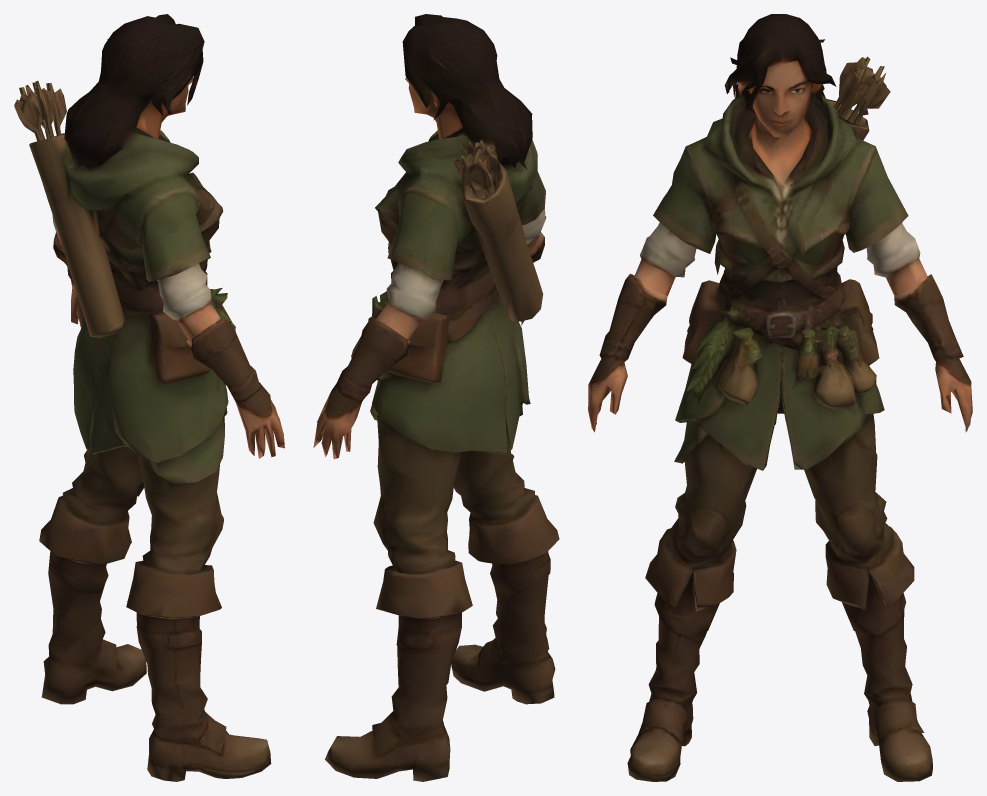
File: model-npc-juniper-01.glb
The picture shows the model from 3 angles, left to right: view 1: azimuth 30°, elevation 25°; view 2: azimuth 150°, elevation 25°; view 3: azimuth 270°, elevation 25°; orthographic projection. The views are drawn at different scales.
Parts seen in each view (by area): view 1: tripo_node_4d951257-15c0-4450-b54f-682930fb0a42; view 2: tripo_node_4d951257-15c0-4450-b54f-682930fb0a42; view 3: tripo_node_4d951257-15c0-4450-b54f-682930fb0a42.
Part boxes in pixels (x1=…): tripo_node_4d951257-15c0-4450-b54f-682930fb0a42: x1=14, y1=14, x2=284, y2=781; tripo_node_4d951257-15c0-4450-b54f-682930fb0a42: x1=313, y1=14, x2=559, y2=781; tripo_node_4d951257-15c0-4450-b54f-682930fb0a42: x1=588, y1=14, x2=972, y2=781.
Size of the model in its own units: 0.4263 by 1.8 by 0.8489.
Materials: 1 (1 with a texture image).
